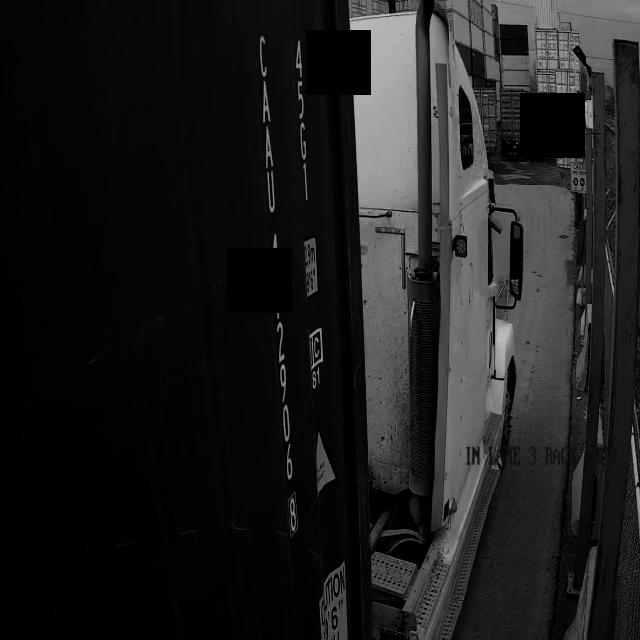container_side_no: (253, 23, 304, 542)
truck_with_container: (0, 0, 524, 640)
